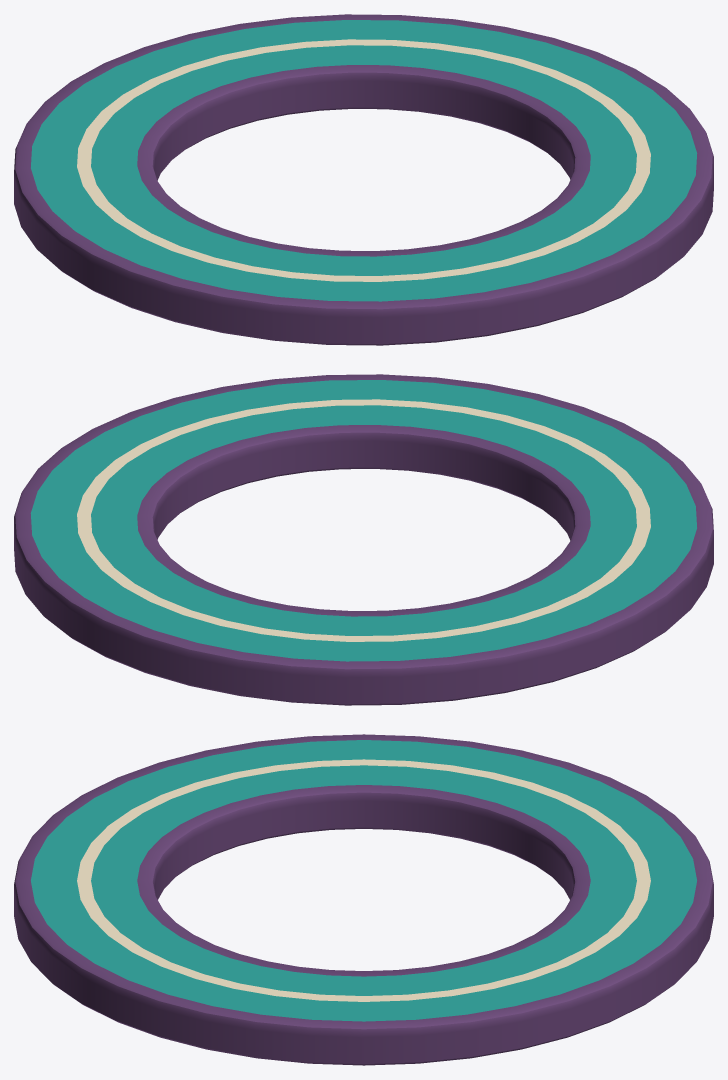
Rendered from sumo_ring_1.glb.
The picture shows the model from 3 angles, top to bottom: view 1: azimuth 30°, elevation 25°; view 2: azimuth 150°, elevation 25°; view 3: azimuth 270°, elevation 25°; orthographic projection.
Parts seen in each view (by area): view 1: sumo_ring_1; view 2: sumo_ring_1; view 3: sumo_ring_1.
Part boxes in pixels (x1,y1,x2,y2): sumo_ring_1: [14, 14, 713, 345]; sumo_ring_1: [14, 374, 713, 705]; sumo_ring_1: [14, 734, 713, 1065].
Bounding box in the file's own units: 10 × 0.6 × 10.
